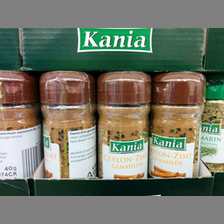spices: (39, 71, 95, 178), (97, 71, 151, 179), (153, 72, 205, 179), (1, 71, 39, 178)
